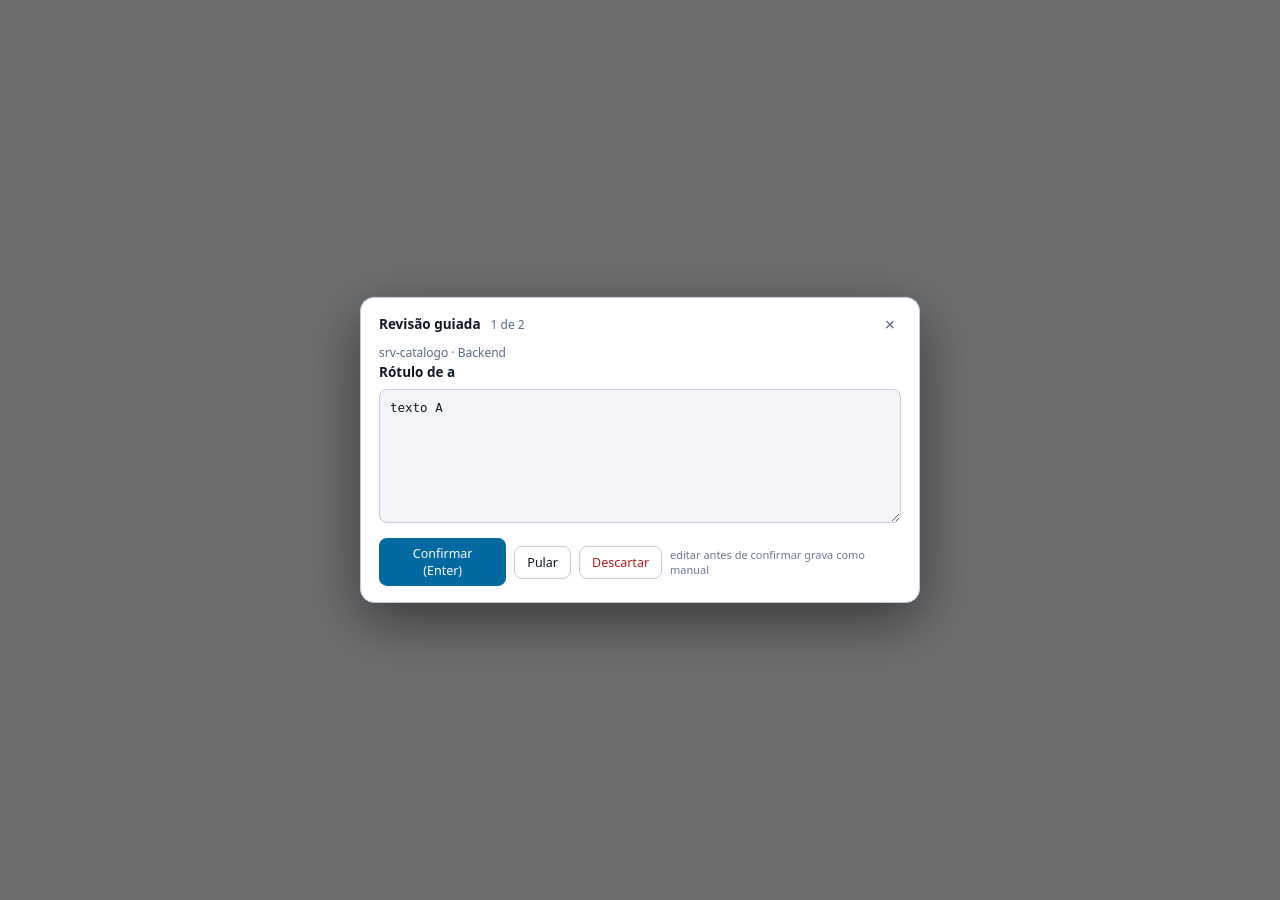
Test: FilaDeRevisao (SPEC-44 Fase 2) › mostra uma sugestão por vez com progresso, e confirmar SEM editar assina mantendo a procedência
Expected: the text with test id "fila-progresso" reads "1 de 2", [490,315,525,332]
Expected: the text with test id "fila-rotulo" reads "Rótulo de a", [379,363,455,381]
Step 1. Click the button with test id "fila-confirmar" → (443, 562), box [379,538,506,586]
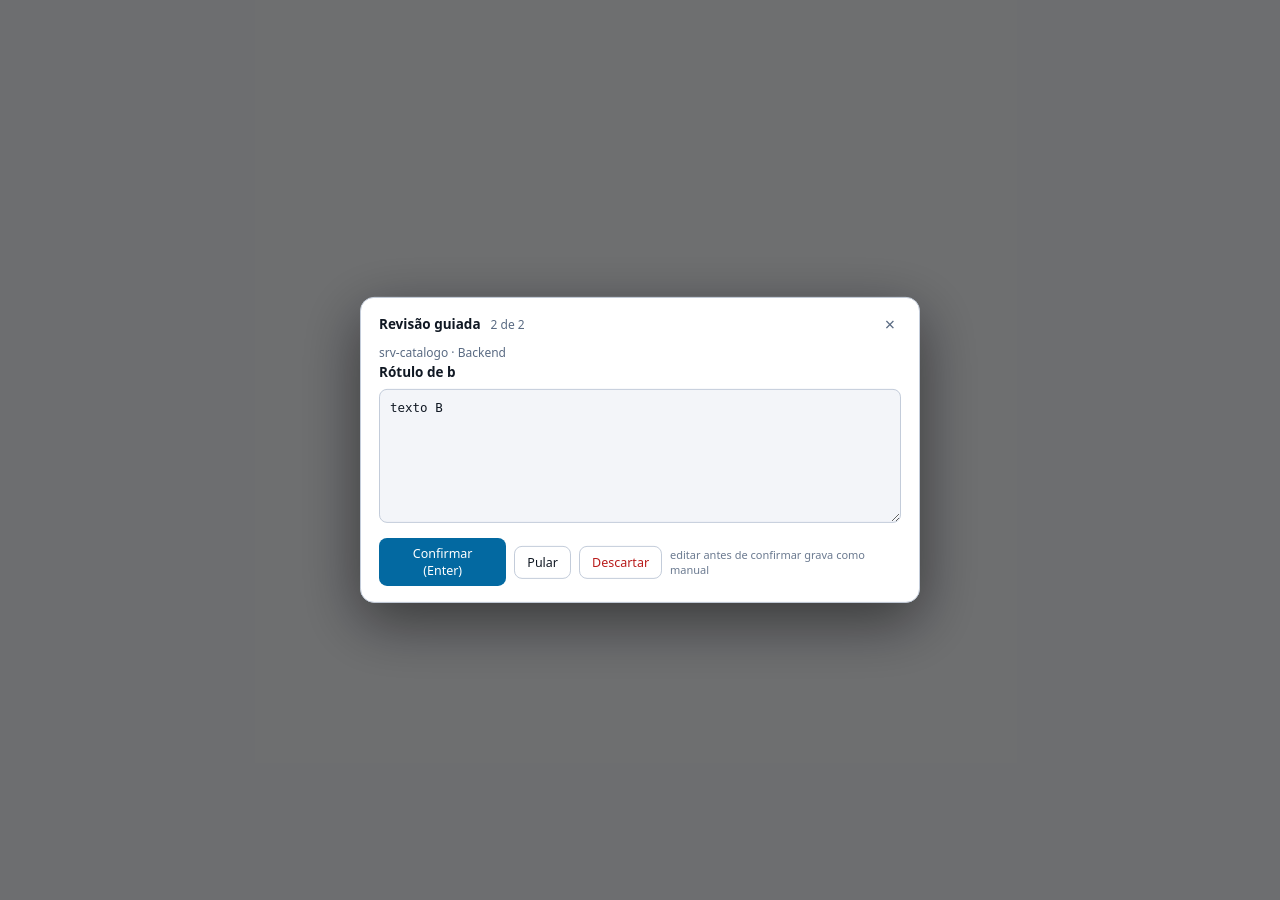
Now the text with test id "fila-rotulo" reads "Rótulo de b", box [379,363,456,381]
Now the text with test id "fila-progresso" reads "2 de 2", box [490,315,525,332]
